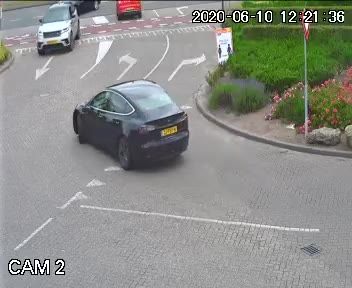car: (65, 74, 189, 172), (30, 5, 84, 59), (112, 0, 144, 23)
